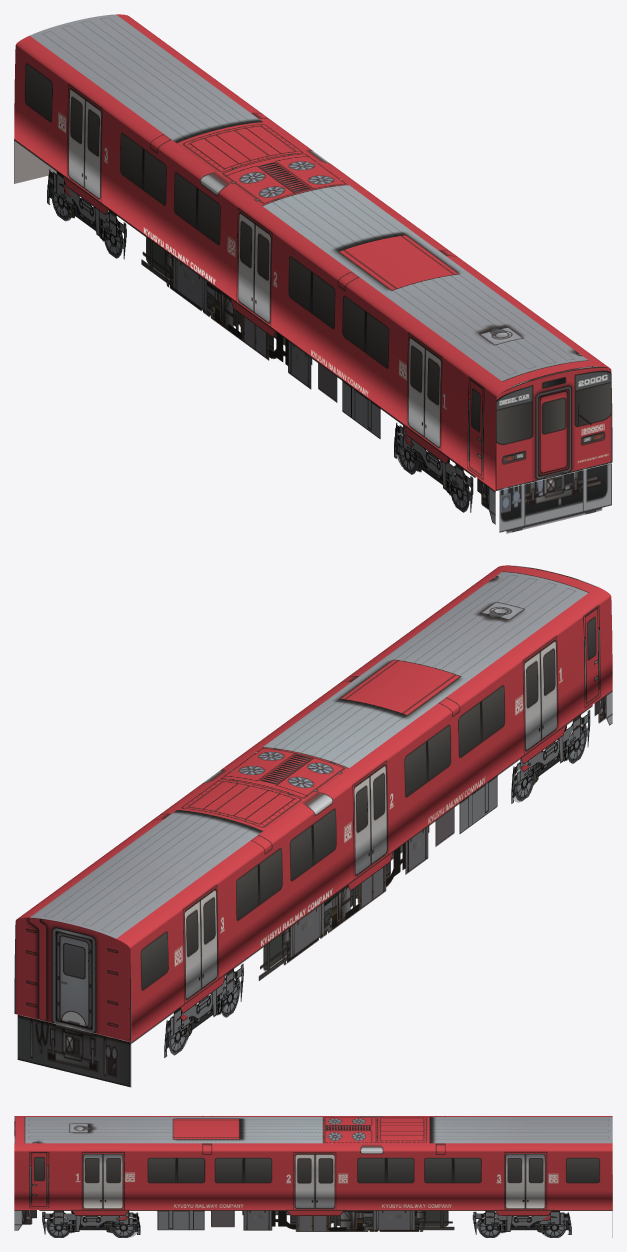
File: car1.glb
3 renders of one model, top to bottom at view 1: azimuth 30°, elevation 25°; view 2: azimuth 150°, elevation 25°; view 3: azimuth 270°, elevation 25°, orthographic. The views are drawn at different scales.
Visible parts, largest first — view 1: kiha200-car1; view 2: kiha200-car1; view 3: kiha200-car1.
Boxes of the visible parts, left/top/right/bottom form: kiha200-car1: left=14, top=14, right=612, bottom=533; kiha200-car1: left=14, top=565, right=612, bottom=1087; kiha200-car1: left=14, top=1116, right=612, bottom=1237.
Bounding box in the file's own units: 2.99 × 3.62 × 21.33.
Materials: 9 (8 with a texture image).
